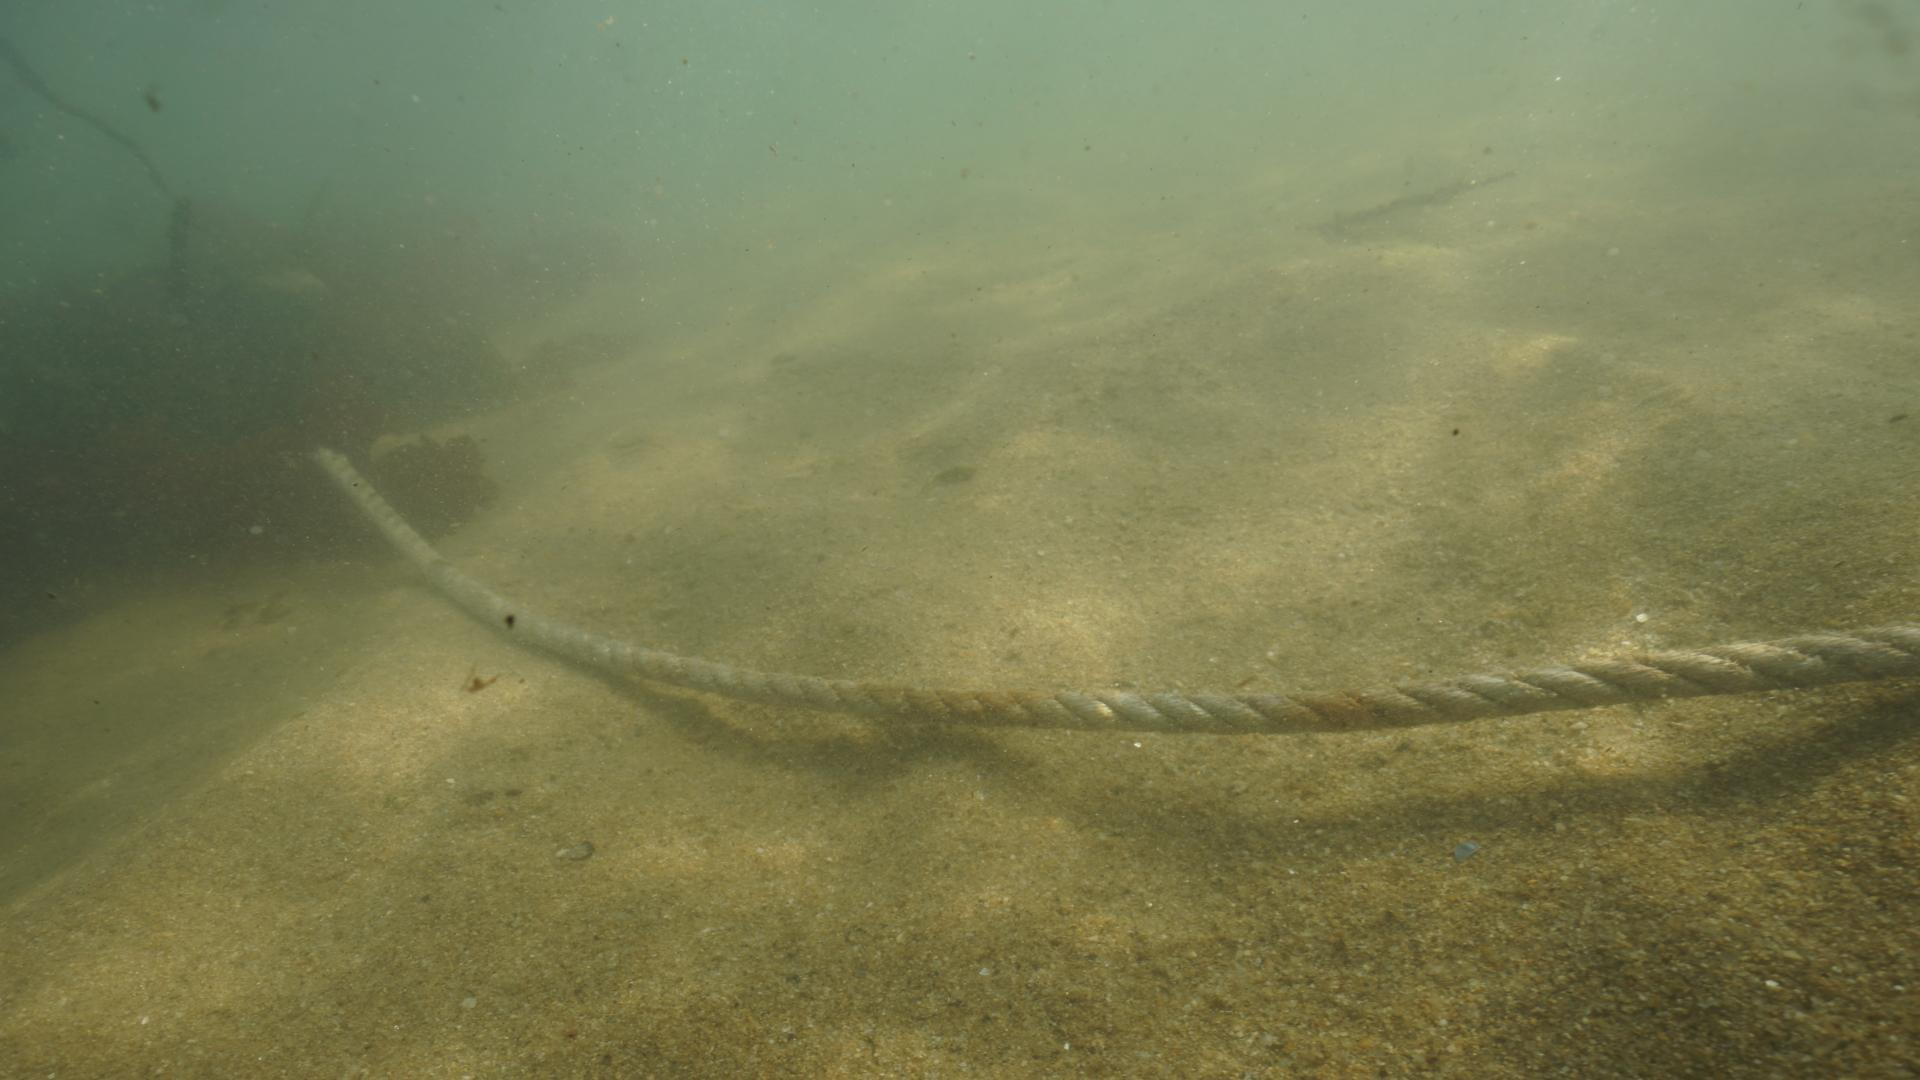rope: (302, 448, 1920, 738)
